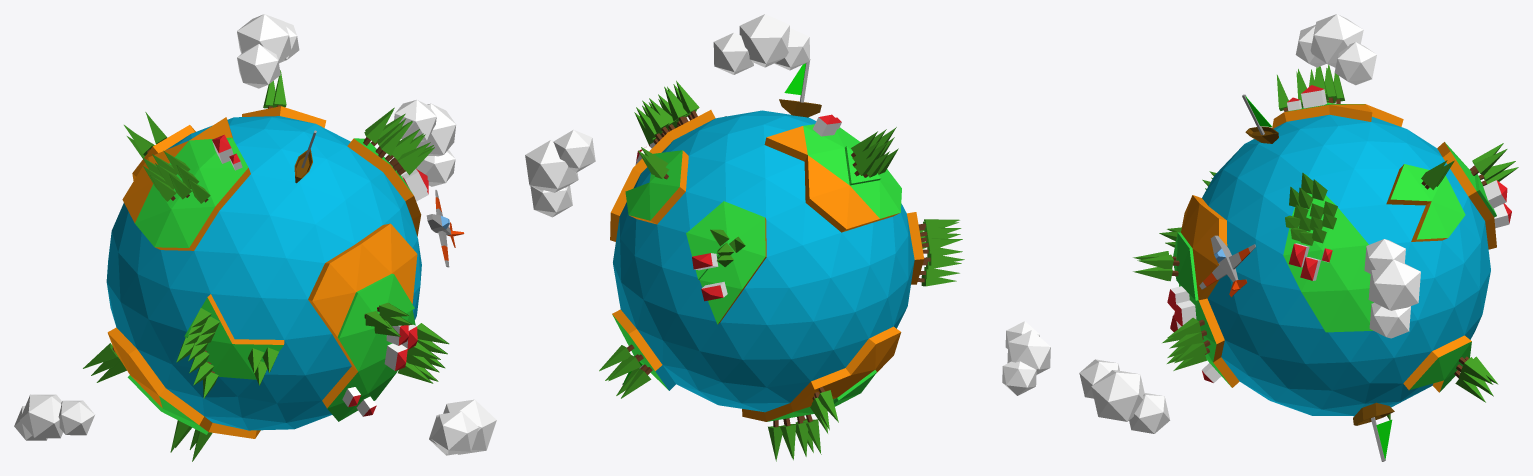
File: earth.gltf
3 views of the same model, side by side, from view 1: azimuth 30°, elevation 25°; view 2: azimuth 150°, elevation 25°; view 3: azimuth 270°, elevation 25° (orthographic). The views are drawn at different scales.
Parts seen in each view (by area): view 1: Icokugel, Icokugel.002, Icokugel.004, Icokugel.003, Icokugel.001, Würfel.003, Würfel.077; view 2: Icokugel, Icokugel.002, Icokugel.004, Icokugel.003, Würfel.002; view 3: Icokugel, Icokugel.004, Icokugel.001, Icokugel.002, Würfel.003, Würfel.060, Würfel.002, Würfel.074, Würfel.080.
Boxes of the visible parts, x1,y1,x2,y2 form: Icokugel: (106,106,421,438); Icokugel.002: (237,14,299,88); Icokugel.004: (394,100,456,186); Icokugel.003: (14,394,94,440); Icokugel.001: (429,399,496,455); Würfel.003: (426,190,464,267); Würfel.077: (384,343,407,370); Icokugel: (610,110,924,421); Icokugel.002: (713,14,809,74); Icokugel.004: (525,129,595,217); Icokugel.003: (1002,321,1050,395); Würfel.002: (779,59,821,117); Icokugel: (1173,102,1496,416); Icokugel.004: (1364,239,1420,338); Icokugel.001: (1079,359,1170,433); Icokugel.002: (1295,14,1376,85); Würfel.003: (1199,235,1255,297); Würfel.060: (1353,402,1394,461); Würfel.002: (1242,94,1278,143); Würfel.074: (1483,180,1507,208); Würfel.080: (1301,85,1326,108).
Bounding box in the file's own units: 8.38 × 7.29 × 6.81.
